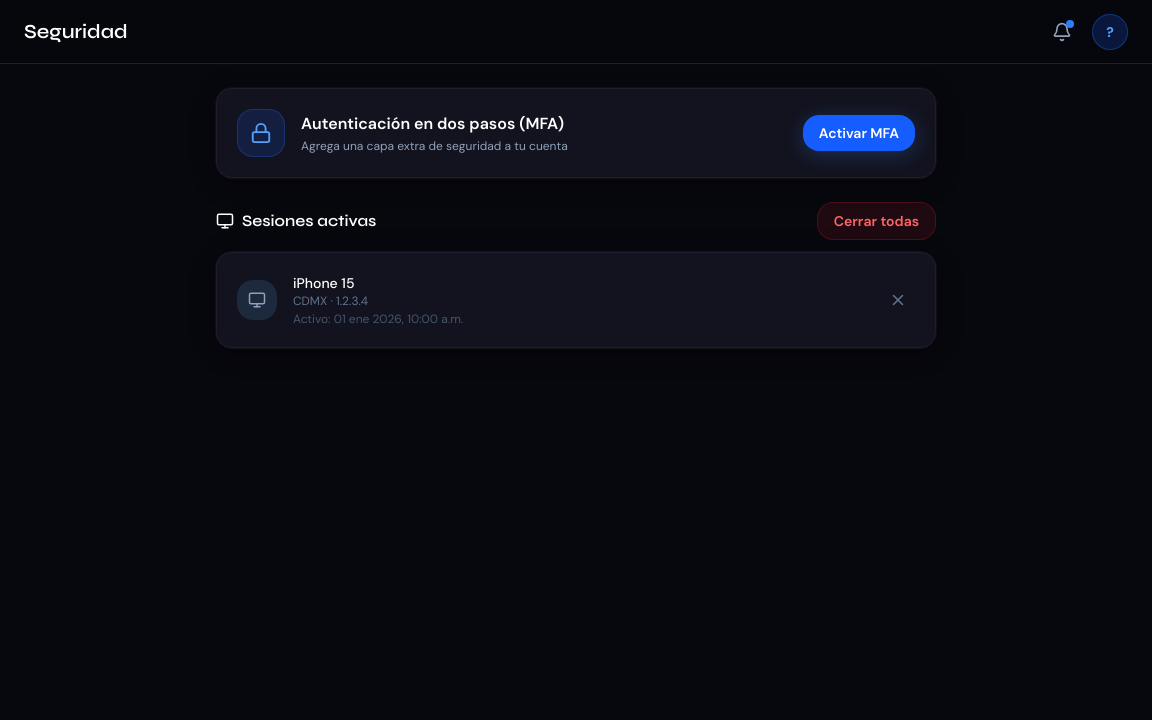
Test: SecurityPage › the MFA code input strips non-digit characters
This screenshot has width=1152, height=720.
Expected: the text "iPhone 15" is shown, [293,274,354,292]
Click the button "Activar MFA": (859, 133) [803,115,915,151]
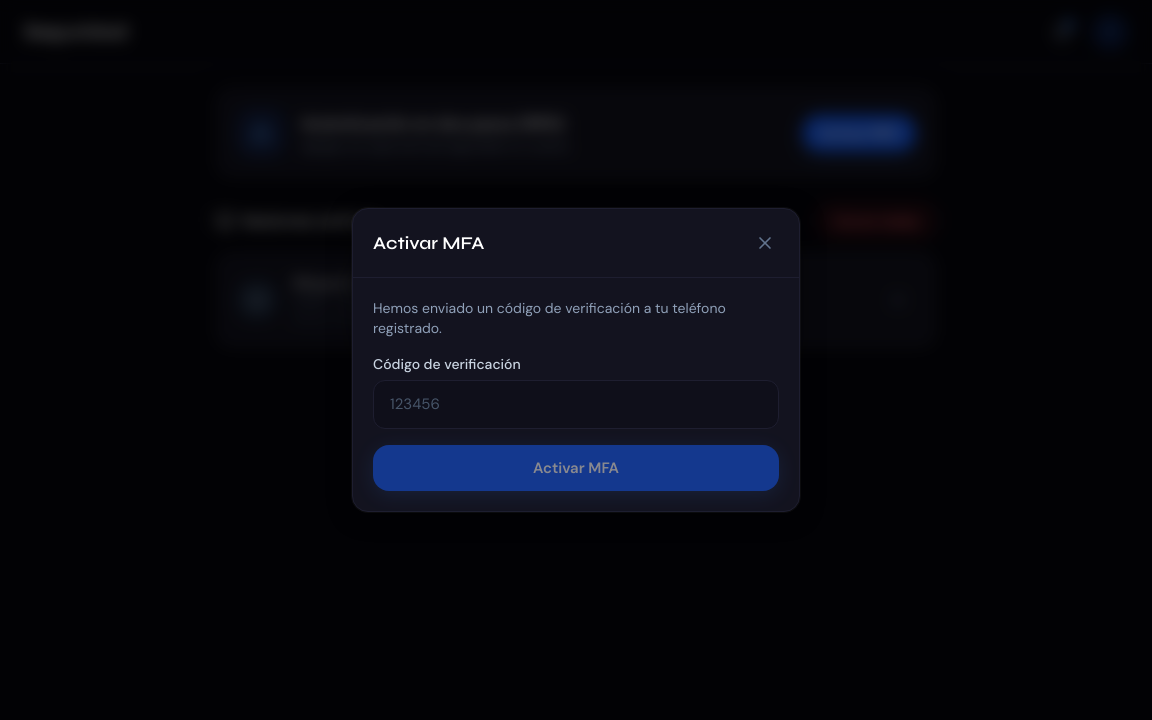
In the field with placeholder "123456": (576, 404) [373,380,779,428], type "12a3b4"
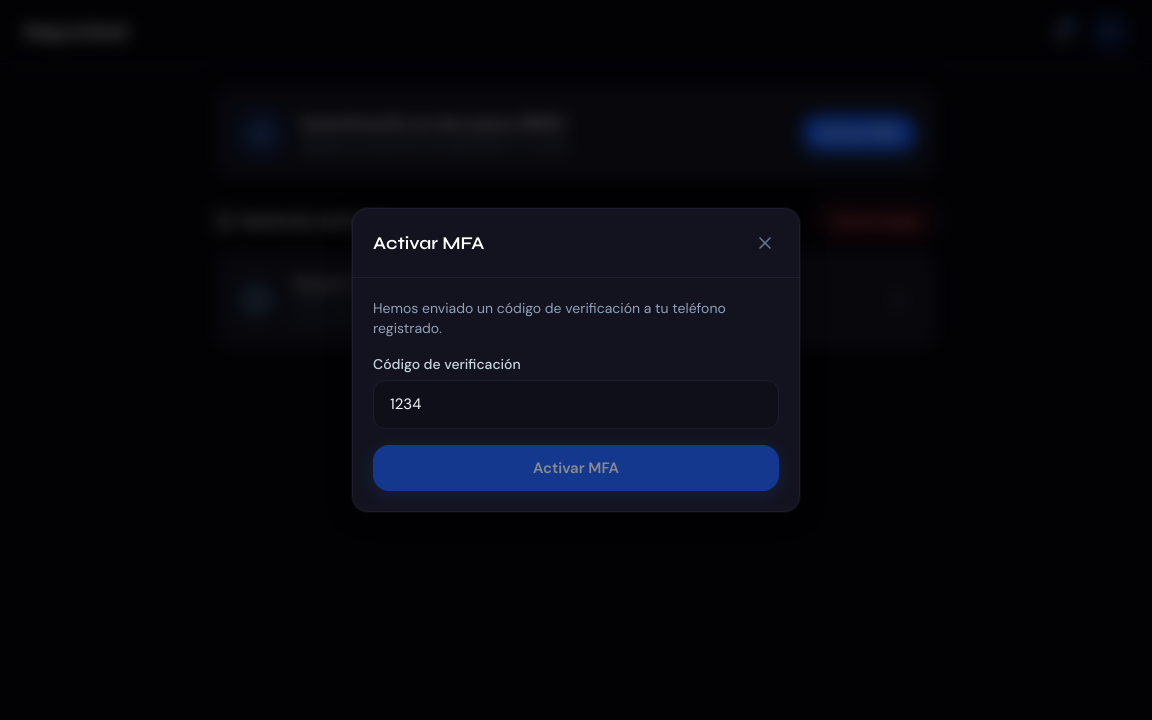
Now the field with placeholder "123456" holds "1234", box [373,380,779,428]
